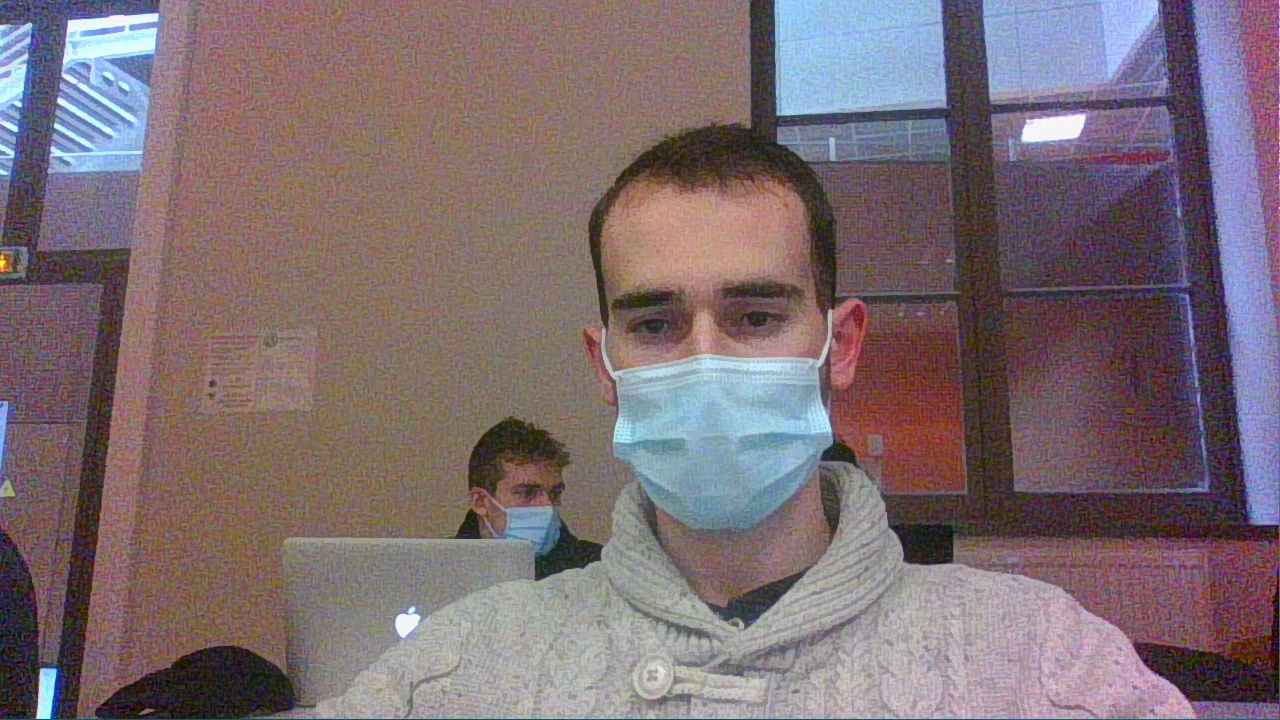mask: (581, 121, 870, 536), (466, 419, 565, 555)
